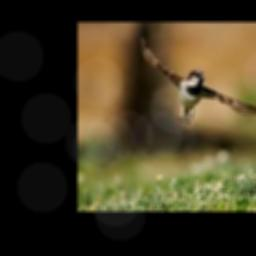Sparrow: (140, 38, 256, 124)
